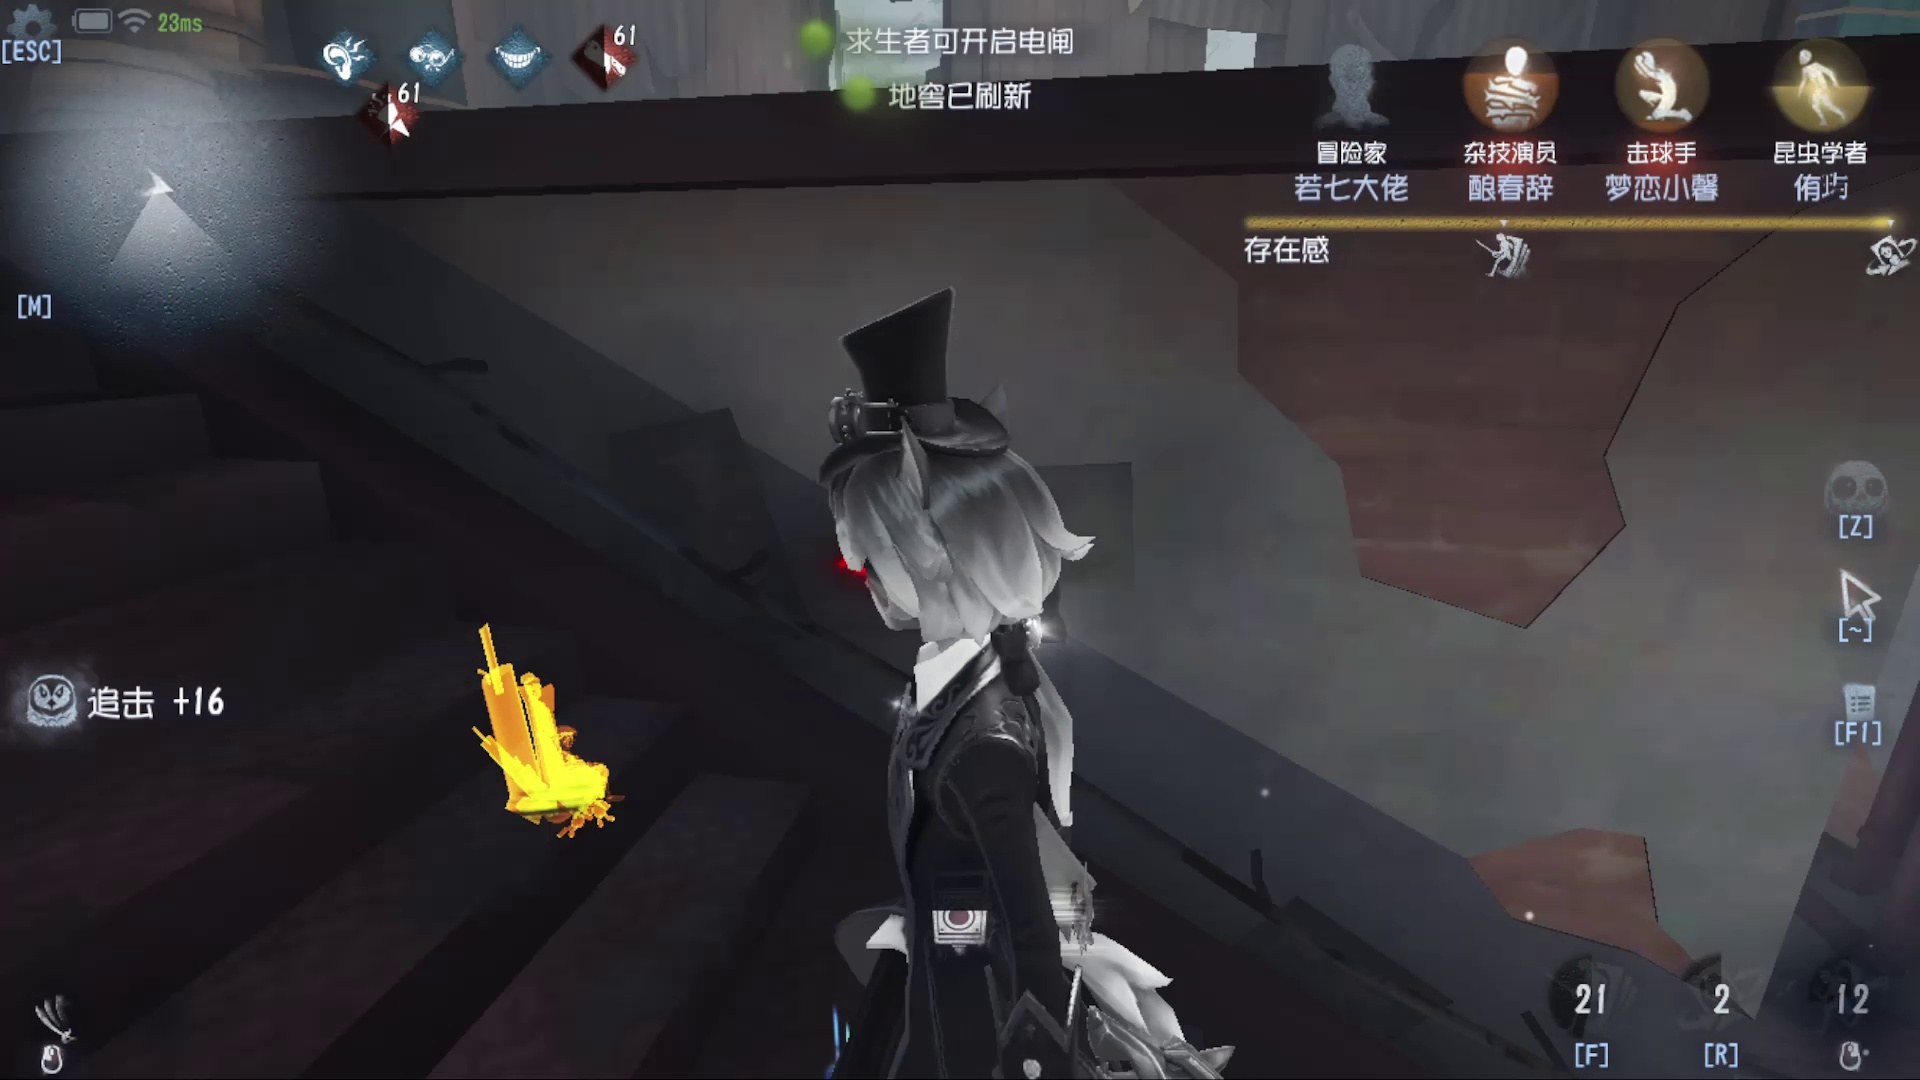狂欢之椅: (427, 599, 637, 855)
